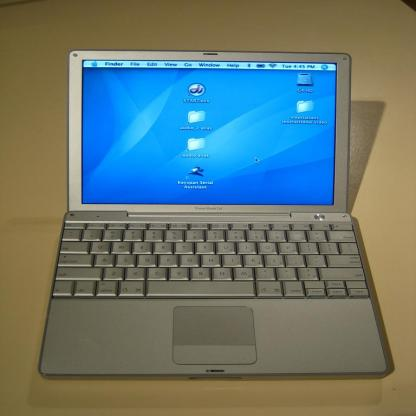board: (36, 47, 389, 377)
